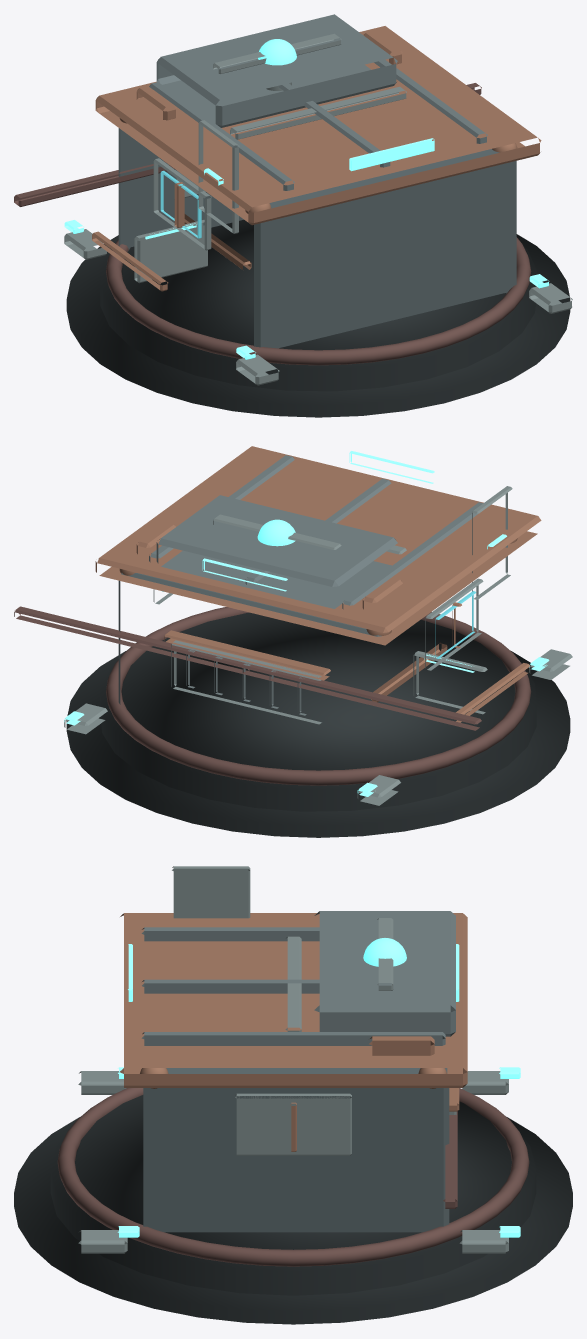
Rendered from outpost.gltf.
The picture shows the model from 3 angles, top to bottom: view 1: azimuth 30°, elevation 25°; view 2: azimuth 150°, elevation 25°; view 3: azimuth 270°, elevation 25°; orthographic projection. The views are drawn at different scales.
Visible parts, largest first — view 1: CoreShelterCore, RoofPlateCore, FoundationApron, ShelterCanopy, FoundationInset, Foundation, FoundationServiceCollar, CoreServicePanelCore, RoofPlateRidge, ShelterMaintenanceBand00, RoofServiceRib00, ShelterWindowFrame00 (+13 smaller); view 2: FoundationInset, RoofPlateCore, FoundationApron, ShelterCanopy, Foundation, FoundationServiceCollar, ShelterMaintenanceBand00, ShelterMaintenanceBand01, CoreVentCap, CoreShelterCore, RoofServiceRib00, CoreVentCore (+13 smaller); view 3: CoreShelterCore, RoofPlateCore, FoundationApron, ShelterCanopy, FoundationInset, Foundation, FoundationServiceCollar, ShelterWindowFrame01, ShelterServiceDoor, RoofServiceRib02, RoofServiceRib00, RoofServiceRib01 (+9 smaller).
Boxes of the visible parts, <box> form: CoreShelterCore: <box>118,128,516,348</box>; RoofPlateCore: <box>95,26,541,225</box>; FoundationApron: <box>66,234,570,417</box>; ShelterCanopy: <box>156,14,397,127</box>; FoundationInset: <box>122,220,506,350</box>; Foundation: <box>100,243,536,391</box>; FoundationServiceCollar: <box>106,237,531,365</box>; CoreServicePanelCore: <box>134,220,207,283</box>; RoofPlateRidge: <box>230,86,406,139</box>; ShelterMaintenanceBand00: <box>14,161,174,206</box>; RoofServiceRib00: <box>149,82,294,190</box>; ShelterWindowFrame00: <box>153,158,211,250</box>; FoundationInset: <box>122,612,514,770</box>; RoofPlateCore: <box>95,446,541,645</box>; FoundationApron: <box>66,651,570,837</box>; ShelterCanopy: <box>156,495,397,608</box>; Foundation: <box>100,663,536,811</box>; FoundationServiceCollar: <box>106,607,531,785</box>; ShelterMaintenanceBand00: <box>243,663,481,730</box>; ShelterMaintenanceBand01: <box>14,606,250,674</box>; CoreVentCap: <box>164,630,330,680</box>; CoreShelterCore: <box>118,573,381,704</box>; RoofServiceRib00: <box>342,502,482,609</box>; CoreVentCore: <box>171,640,321,724</box>; CoreShelterCore: <box>143,1068,449,1232</box>; RoofPlateCore: <box>119,913,467,1087</box>; FoundationApron: <box>14,1117,572,1324</box>; ShelterCanopy: <box>314,911,455,1036</box>; FoundationInset: <box>75,1095,511,1249</box>; Foundation: <box>50,1135,536,1295</box>; FoundationServiceCollar: <box>57,1088,529,1266</box>; ShelterWindowFrame01: <box>235,1093,351,1155</box>; ShelterServiceDoor: <box>172,866,250,918</box>; RoofServiceRib02: <box>141,1032,445,1045</box>; RoofServiceRib00: <box>141,927,319,941</box>; RoofServiceRib01: <box>142,979,319,993</box>.
Size of the model in its own units: 6.48 by 3.21 by 6.1.
